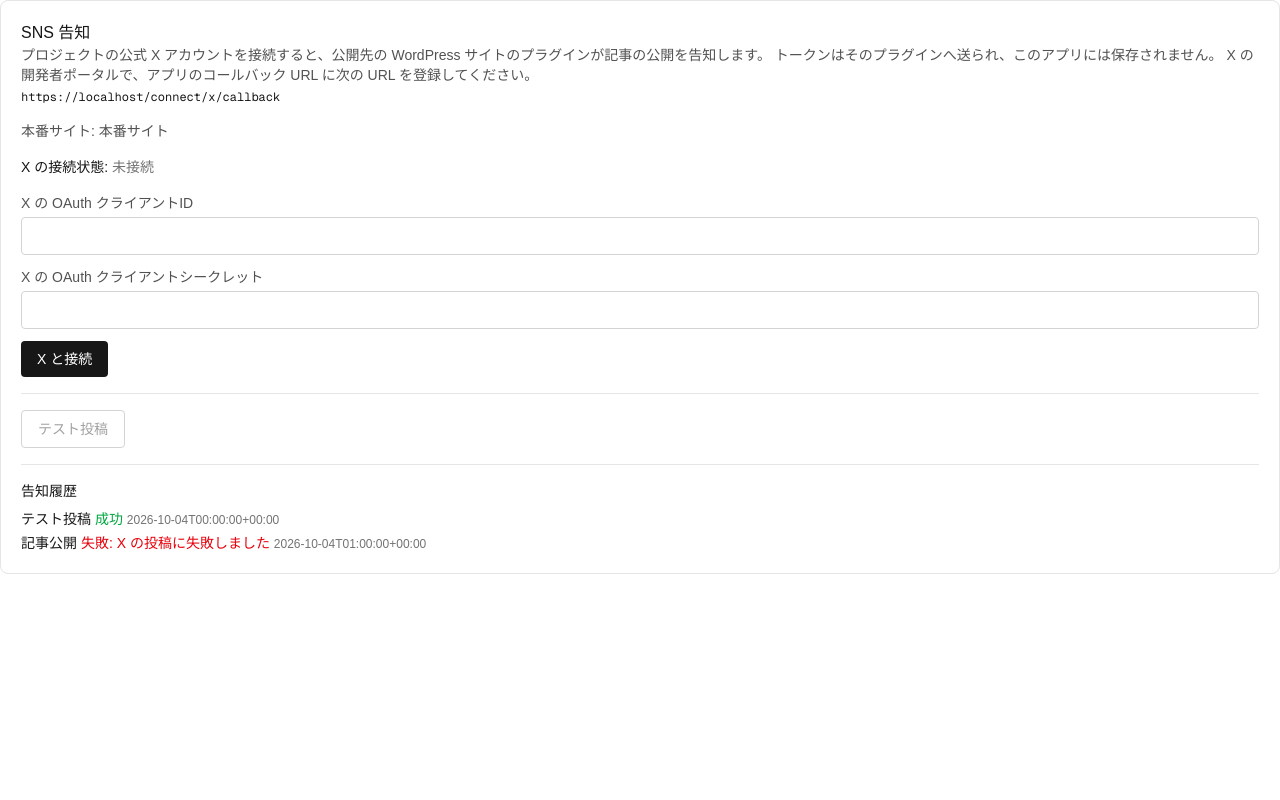
Test: ProjectSnsXSection › 接続できる状態でクライアントの情報を入れて押すと、認可の開始がバックエンドへ送られる
The image size is (1280, 800).
Type "cid" into the field named "clientId" at (640, 236), box left=21, top=217, right=1259, bottom=255
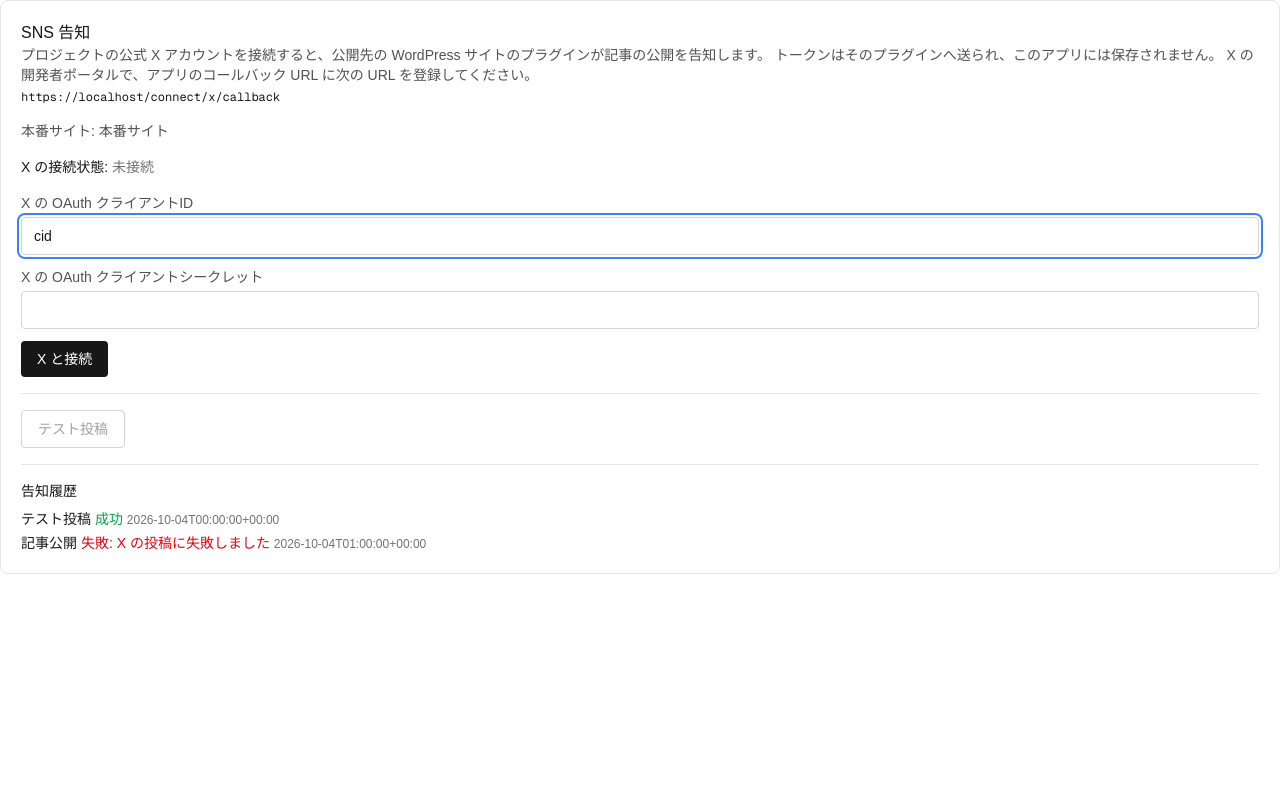
Type "csecret" into the password field named "clientSecret" at (640, 310), box left=21, top=291, right=1259, bottom=329
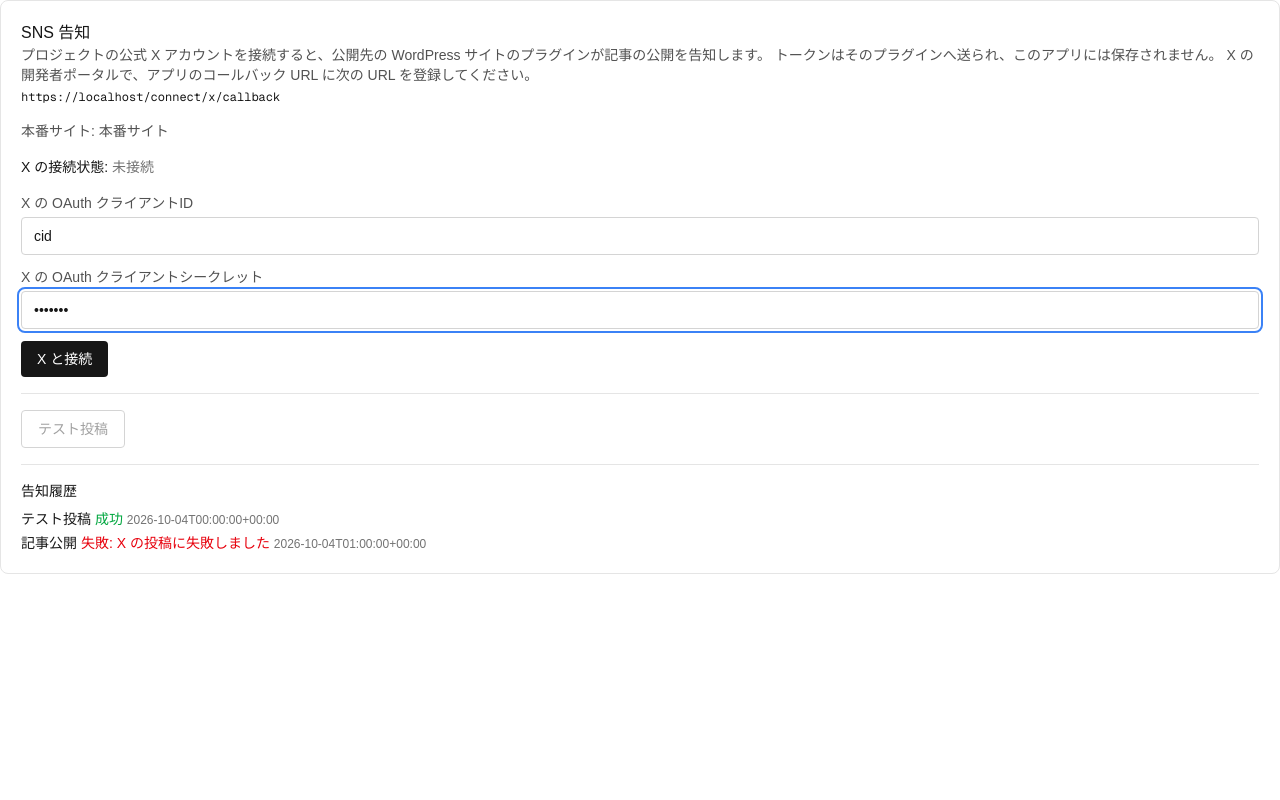
Click the button "X と接続" at (65, 359), box left=21, top=341, right=108, bottom=377
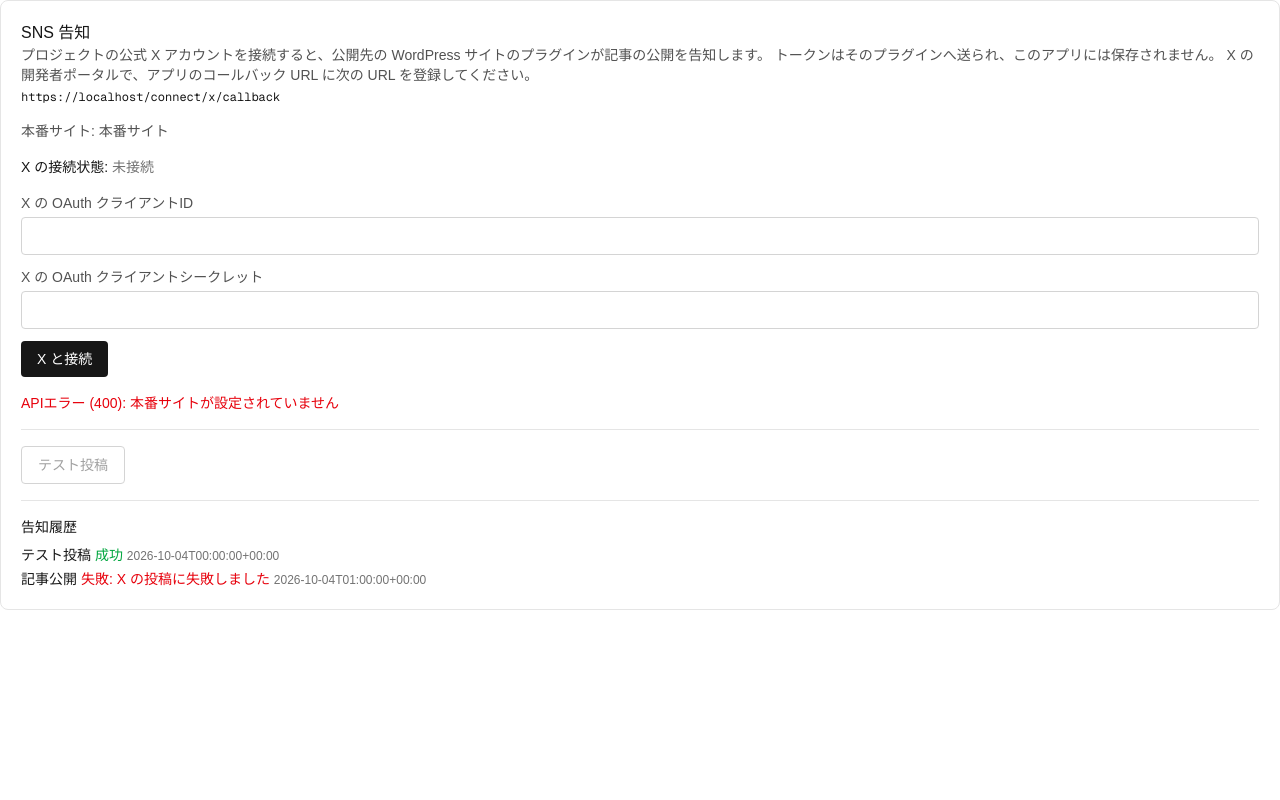
Result: the text "APIエラー (400): 本番サイトが設定されていません" is shown at left=21, top=395, right=339, bottom=411
